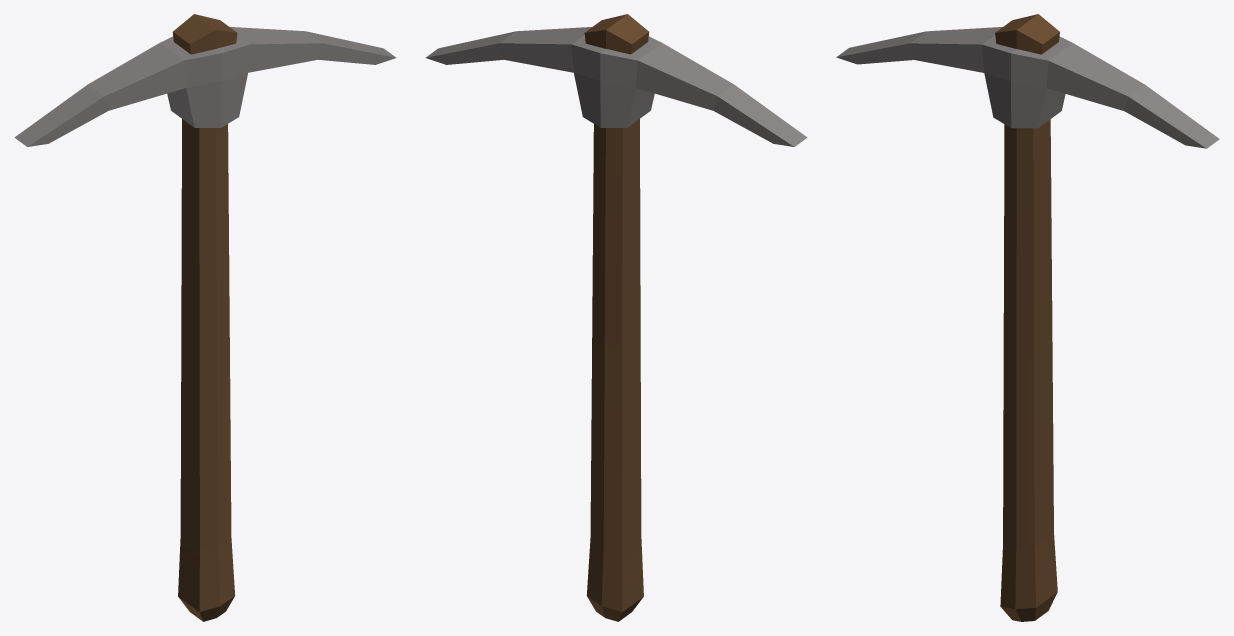
File: tools_pickaxe.fbx
3 views of the same model, side by side, from view 1: azimuth 30°, elevation 25°; view 2: azimuth 150°, elevation 25°; view 3: azimuth 330°, elevation 25° (orthographic).
Visible parts, largest first — view 1: tools_pickaxe; view 2: tools_pickaxe; view 3: tools_pickaxe.
Boxes of the visible parts, x1,y1,x2,y2 form: tools_pickaxe: (14, 14, 396, 621); tools_pickaxe: (425, 14, 807, 621); tools_pickaxe: (836, 14, 1219, 621).
Bounding box in the file's own units: 130 × 200 × 20.37.
